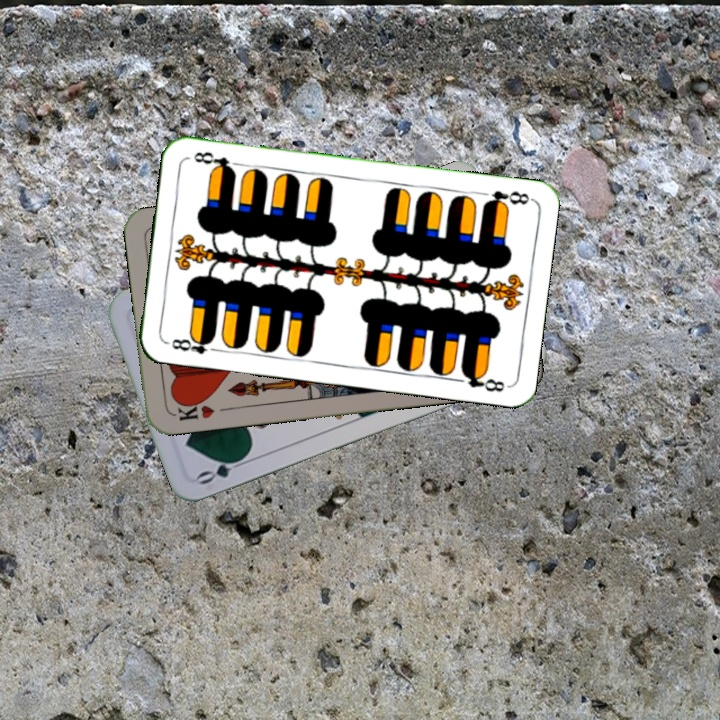E8: (168, 331, 222, 357), (479, 186, 533, 211)
GO: (193, 451, 251, 488)
HK: (170, 395, 217, 423)
